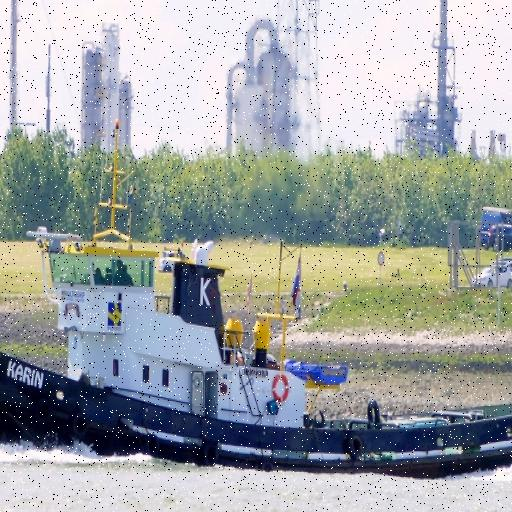tugboat: (1, 116, 512, 490)
